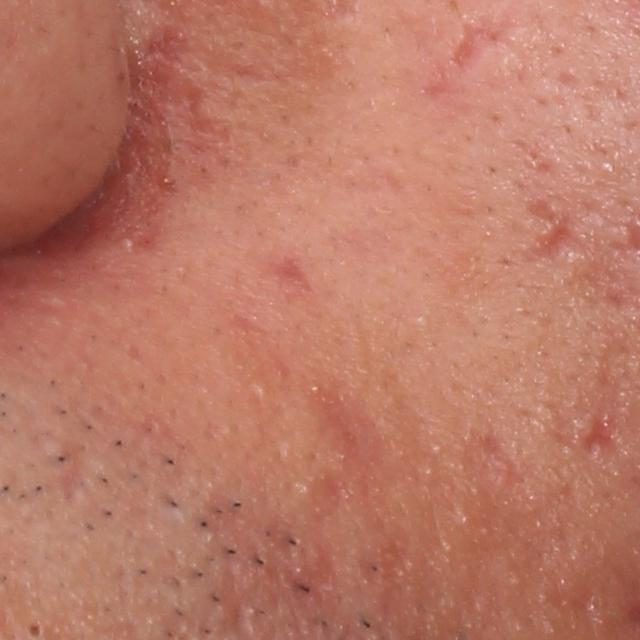atrophic_scar: (521, 200, 593, 265), (448, 10, 503, 72), (54, 437, 89, 512), (582, 410, 617, 453)
